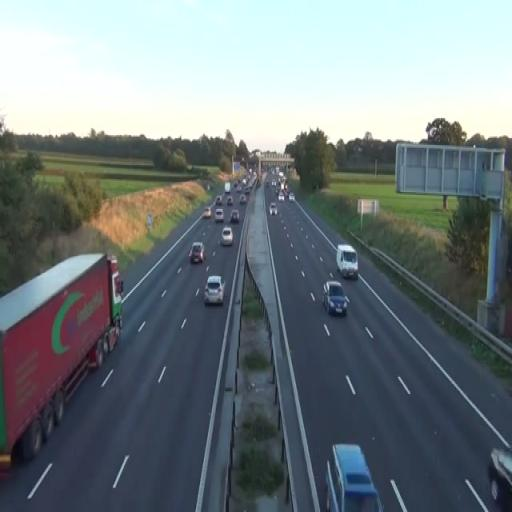Car: (325, 443, 384, 511), (486, 447, 512, 507), (322, 281, 349, 318), (204, 275, 225, 307), (189, 242, 205, 264), (220, 226, 234, 246), (214, 208, 225, 222), (230, 209, 239, 223), (202, 207, 212, 218)
Truck: (0, 252, 124, 470), (336, 244, 358, 279)
